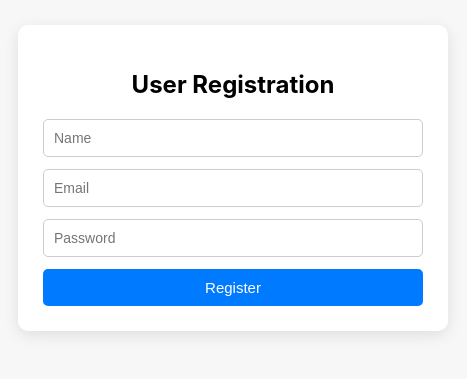
Test: TC-02a: shows name validation error
The image size is (467, 379).
Type "Jo" into the field with placeholder "Name".
click(233, 138); type("Jo")  # box [43, 119, 423, 157]
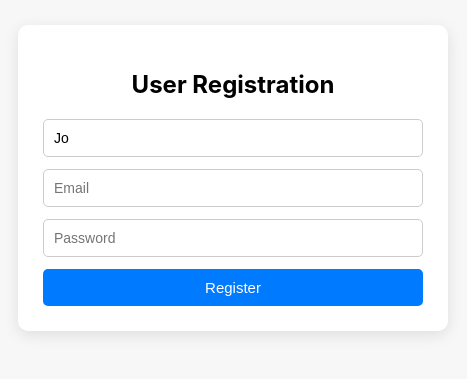
Type "john@gmail.com" into the field with placeholder "Email".
click(233, 188); type("john@gmail.com")  # box [43, 169, 423, 207]
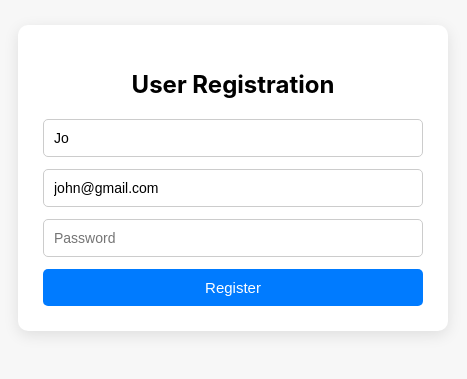
Type "123456" into the password field with placeholder "Password".
click(233, 238); type("123456")  # box [43, 219, 423, 257]
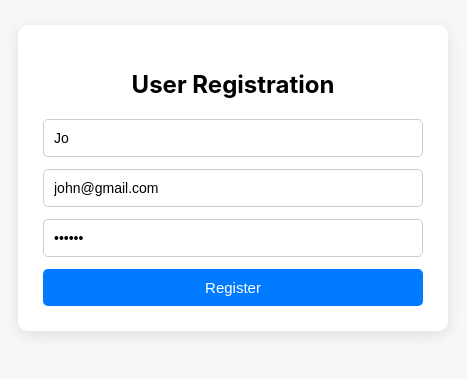
Click the button "Register".
click(233, 288)  # box [43, 269, 423, 306]
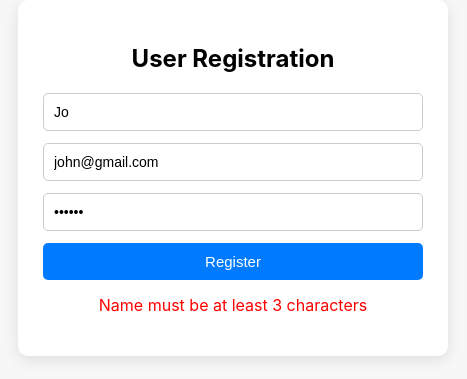
expect the text "Name must be at least 3 characters" is shown: met, box [99, 296, 367, 316]
